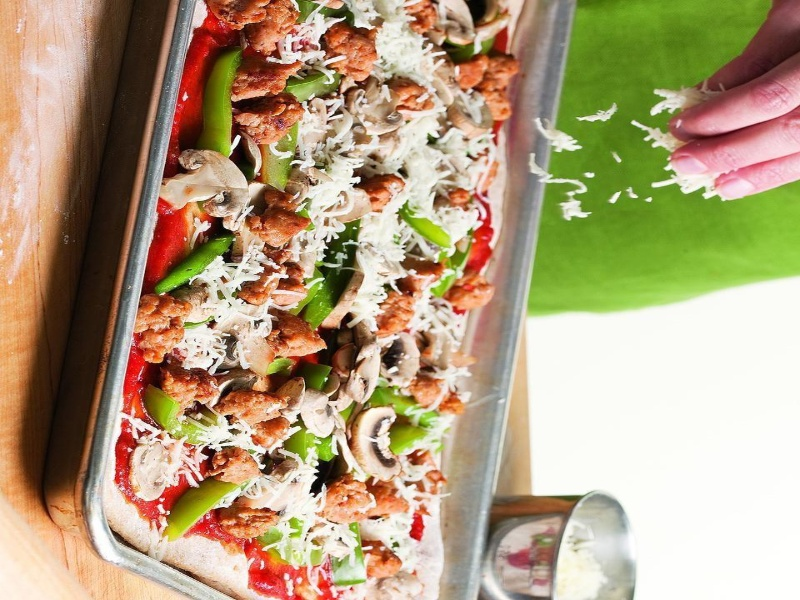champignon: (161, 146, 259, 228), (350, 403, 404, 482), (124, 439, 174, 504), (383, 329, 421, 391)
